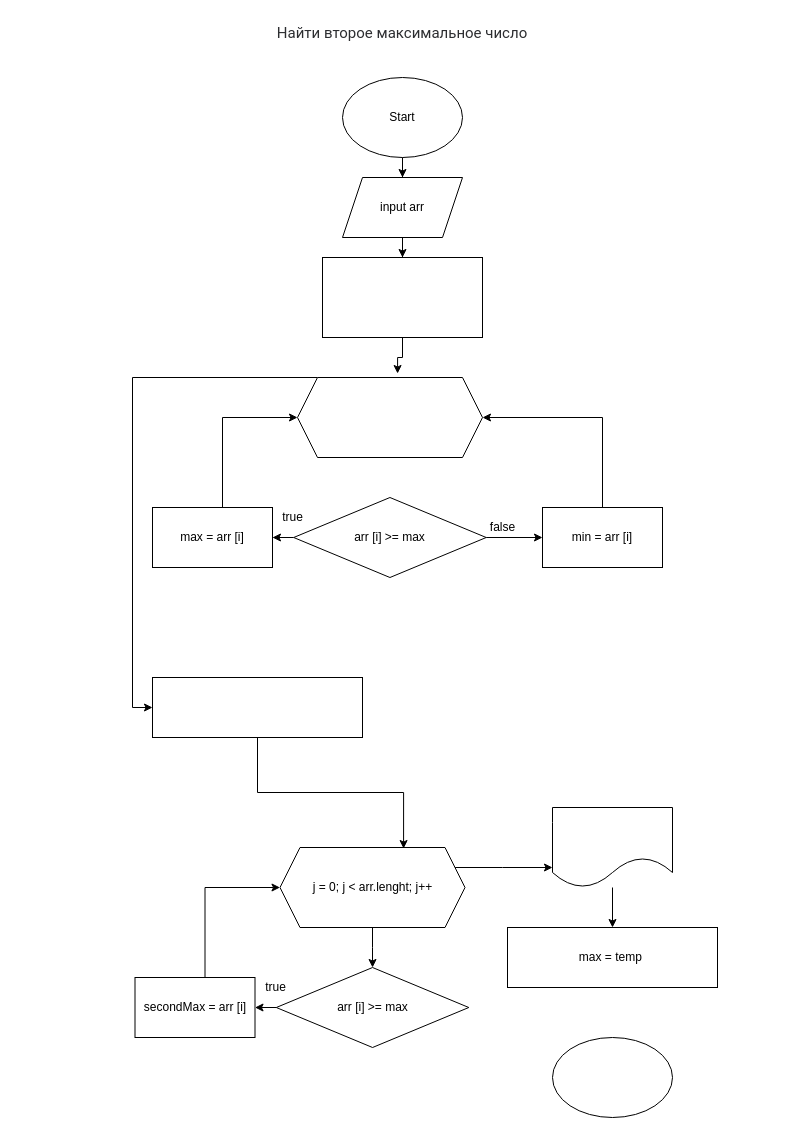
This 804x1135 diagram has some shape labels left out. Here are the shapes that lost their labels. From the top down, the box of each, then its label:
(322, 256, 482, 338): max = arr [0] secondMax = arr [0] temp = 0
(296, 376, 482, 458): i = 0; i < arr.lenght; i++
(152, 676, 362, 738): temp = max max = min
(552, 806, 672, 888): print secondMax
(552, 1036, 672, 1118): End
